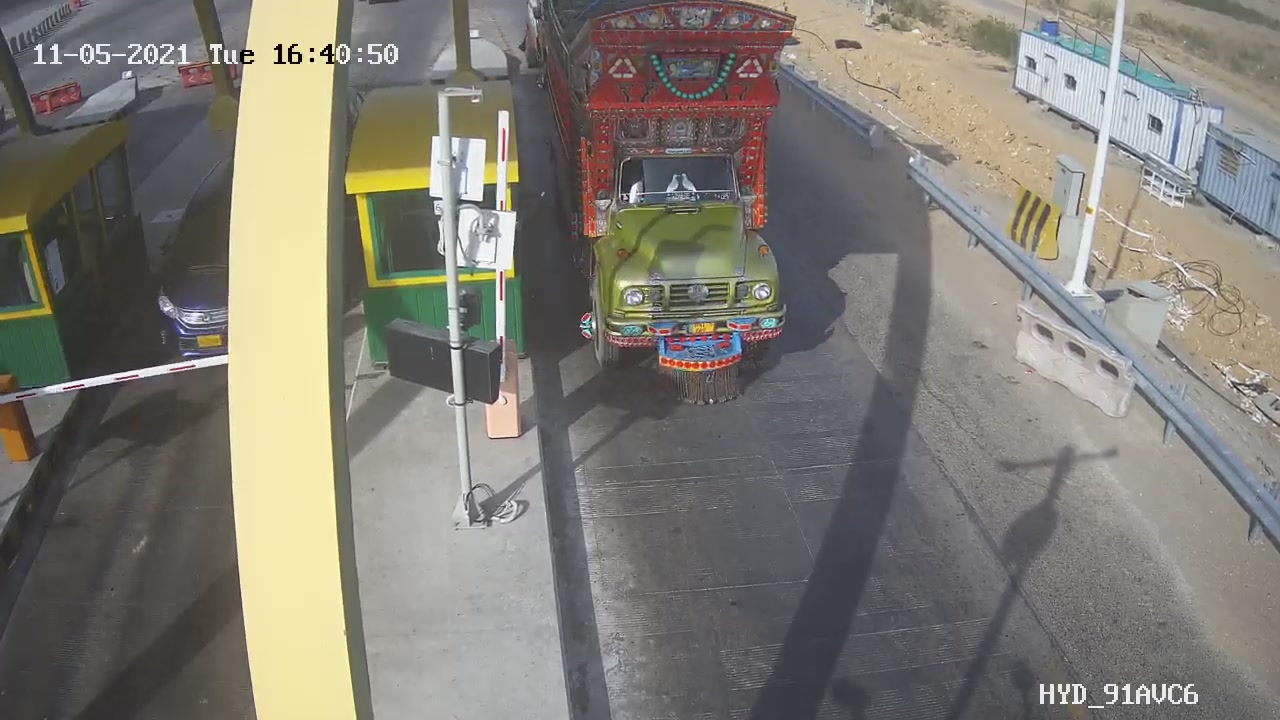F5: (540, 3, 831, 433)
